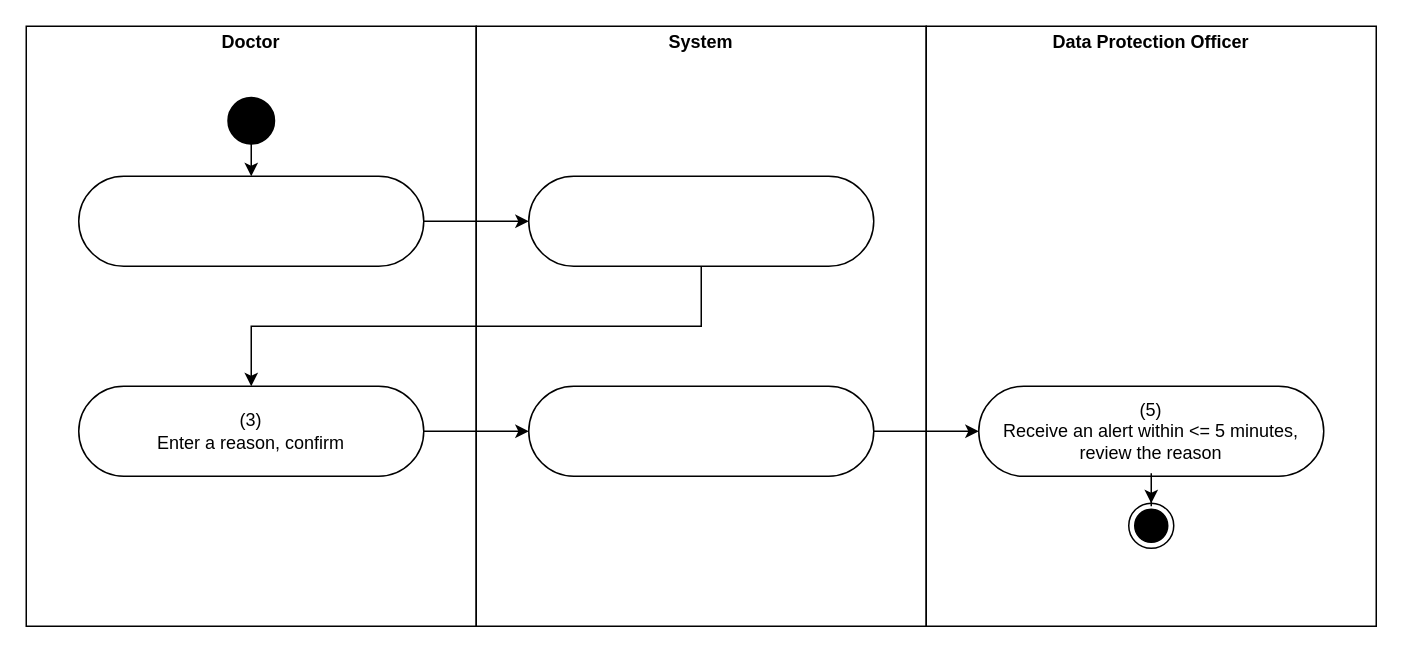
Image size: 1403x653. Some labels were removed from this diagram. Here are the shapes that lost their labels. From the top down, the centre of each, then its label:
point (250, 220): (1) Open a patient record without a treatment relationship
point (700, 220): (2) Deny, offer emergency access
point (700, 430): (4) Grant access for 60 minutes, audit with purpose "break-glass"
